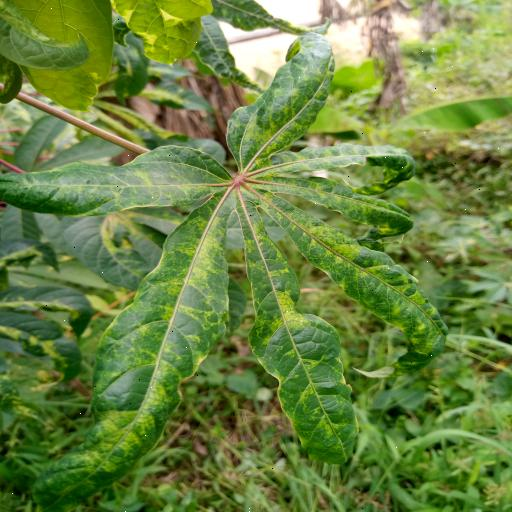Cassava_Mosaic: (0, 30, 450, 509)
